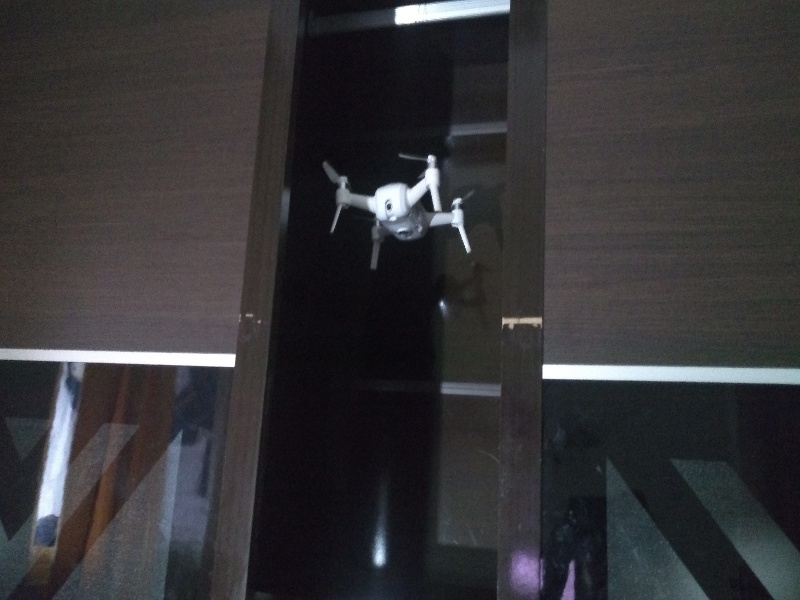drone: (310, 151, 485, 270)
